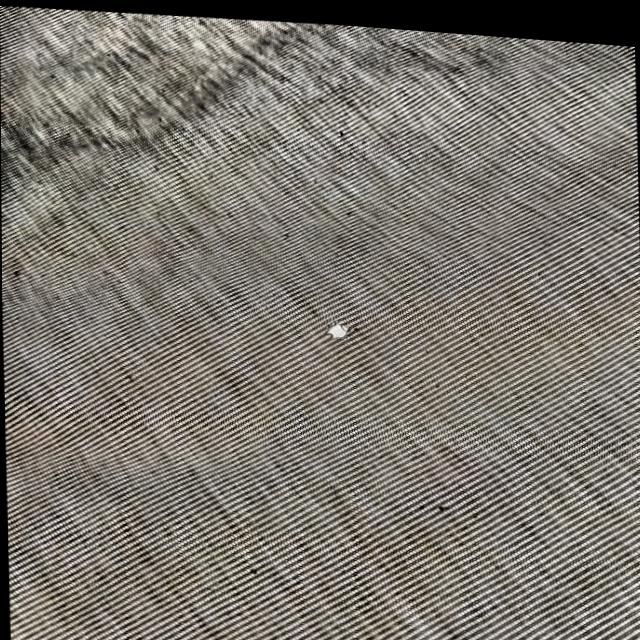Hole: (313, 306, 368, 352)
